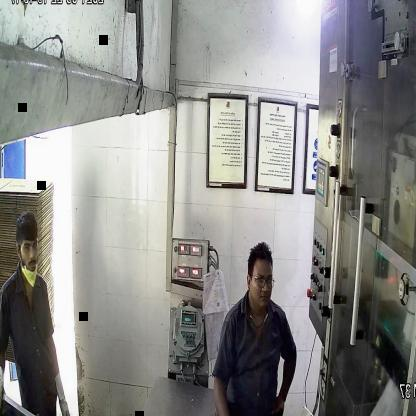goggles: (246, 271, 276, 290)
no_goggles: (16, 236, 43, 256)
